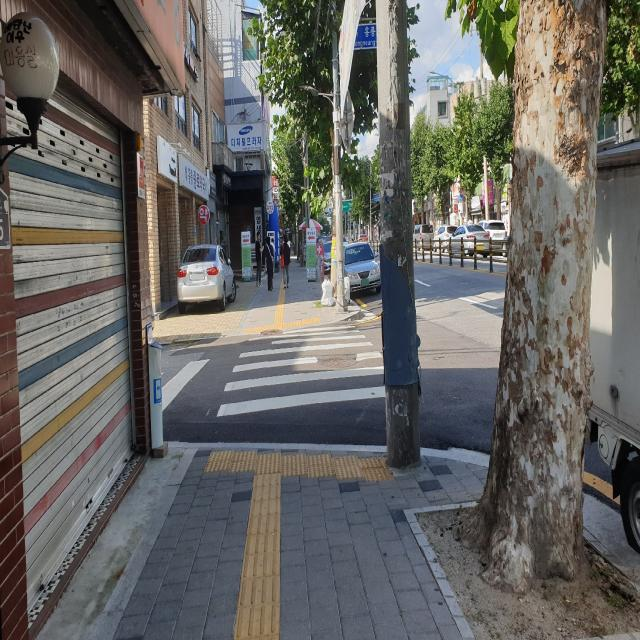횡단보도: (217, 324, 386, 418)
